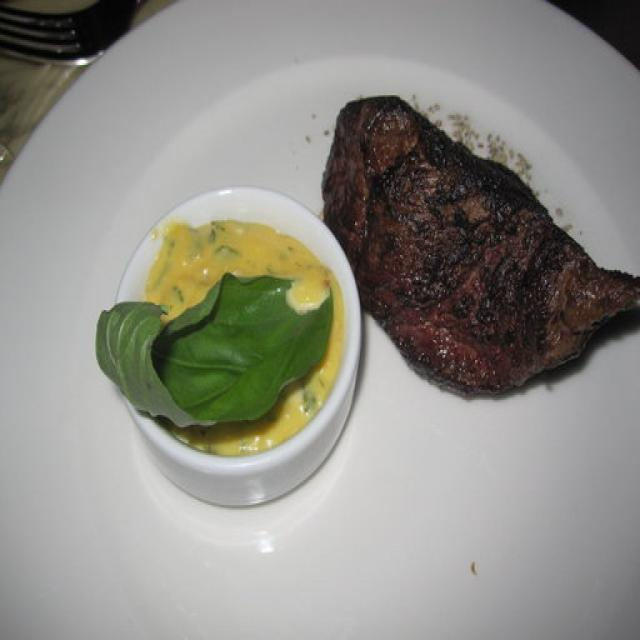Steak: (329, 95, 640, 390)
